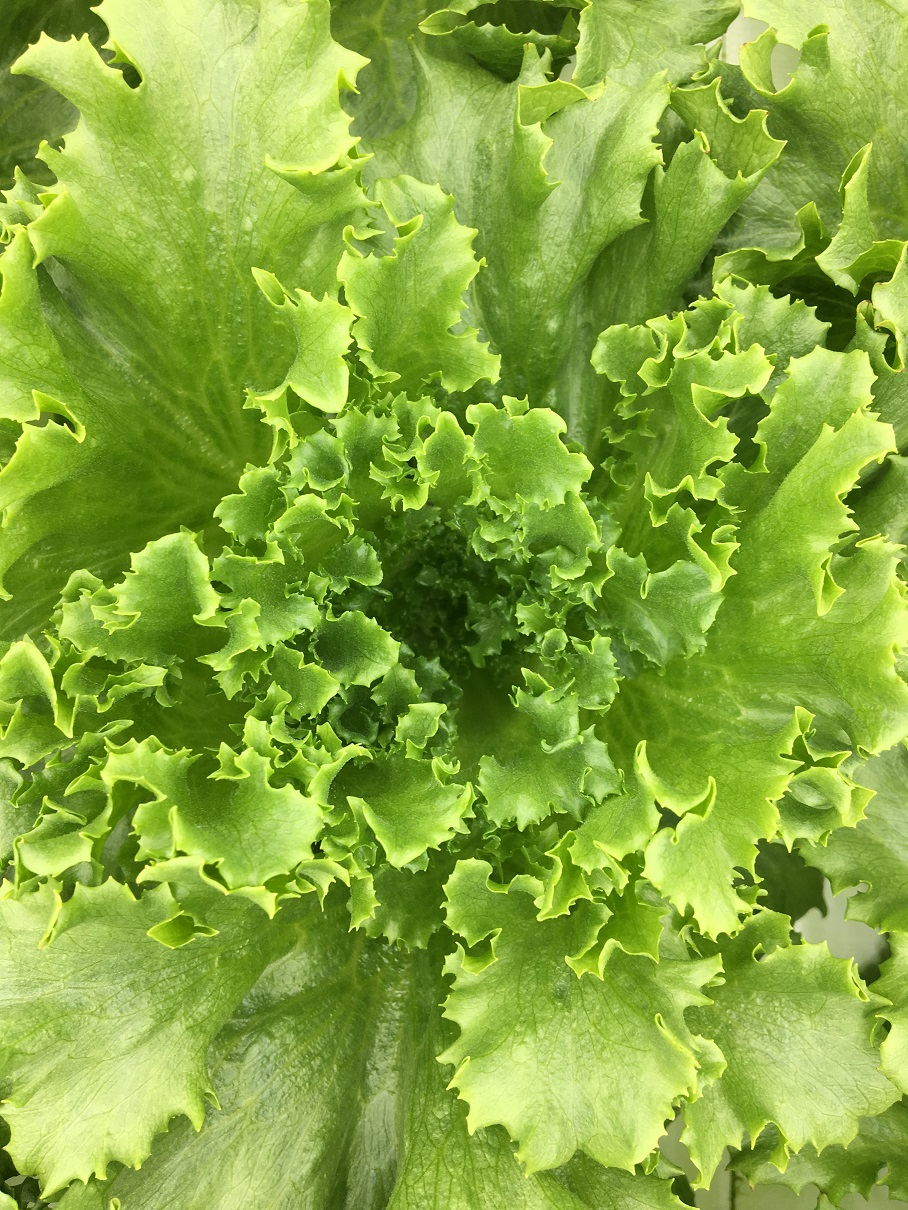tipburn: (860, 292, 888, 318), (690, 142, 715, 163), (741, 1170, 762, 1195), (734, 32, 755, 56), (509, 79, 534, 97), (516, 38, 537, 53), (758, 102, 776, 119), (823, 27, 839, 44), (875, 280, 891, 292)
